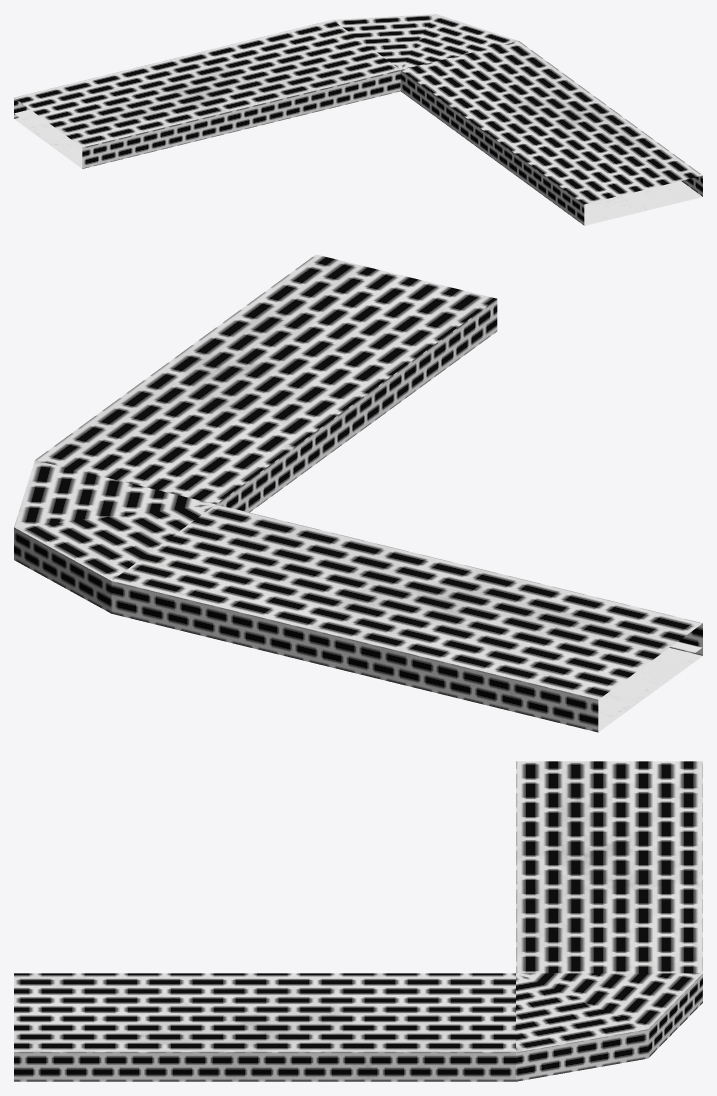
The model's file is cabletraycurve.glb.
3 views of the same model, one above another, from view 1: azimuth 30°, elevation 25°; view 2: azimuth 150°, elevation 25°; view 3: azimuth 270°, elevation 25° (orthographic). The views are drawn at different scales.
Parts seen in each view (by area): view 1: CableTrayCurve; view 2: CableTrayCurve; view 3: CableTrayCurve.
Boxes of the visible parts, box(x1,y1,x2,y2) form: CableTrayCurve: box(14, 14, 702, 225); CableTrayCurve: box(14, 254, 702, 732); CableTrayCurve: box(14, 761, 702, 1081).
Bounding box in the file's own units: 3.43 × 0.1606 × 3.43.
Materials: 3 (3 with a texture image).
